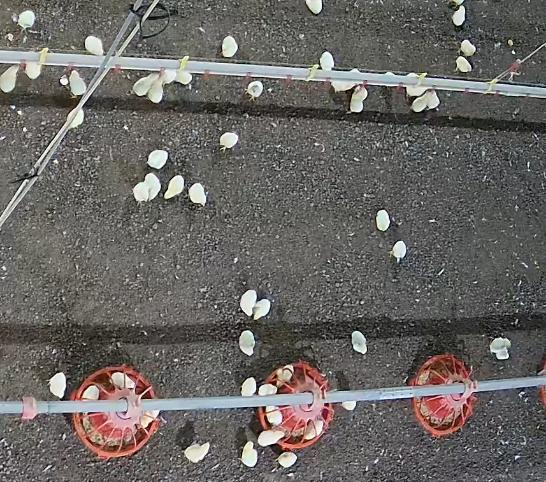chick: (129, 72, 161, 96), (182, 441, 209, 464), (0, 63, 19, 95), (67, 68, 87, 98), (146, 148, 170, 170), (350, 329, 369, 356), (238, 290, 257, 317), (148, 74, 165, 104), (350, 84, 367, 114), (144, 172, 161, 202), (164, 175, 185, 199), (489, 336, 510, 360), (48, 373, 67, 399), (239, 441, 258, 467), (218, 132, 241, 153), (16, 10, 36, 34), (186, 183, 206, 207), (237, 330, 255, 356), (109, 372, 136, 389), (257, 429, 284, 446), (65, 107, 86, 128), (83, 35, 105, 55), (131, 181, 150, 204), (139, 407, 158, 430), (220, 34, 238, 58), (244, 80, 262, 103), (413, 89, 430, 113), (457, 37, 476, 57), (304, 419, 323, 439), (253, 299, 271, 320), (375, 208, 390, 232), (276, 364, 294, 384), (276, 452, 297, 469), (265, 405, 282, 425), (330, 80, 354, 94), (427, 88, 441, 112), (390, 240, 406, 261), (241, 377, 257, 398), (174, 69, 193, 86), (79, 385, 99, 400), (23, 62, 41, 78), (319, 51, 335, 69), (452, 5, 465, 27), (455, 56, 471, 72), (306, 0, 324, 14), (258, 385, 278, 396), (341, 399, 357, 411)
rice: (69, 364, 159, 459), (255, 360, 334, 450), (409, 352, 476, 437)
